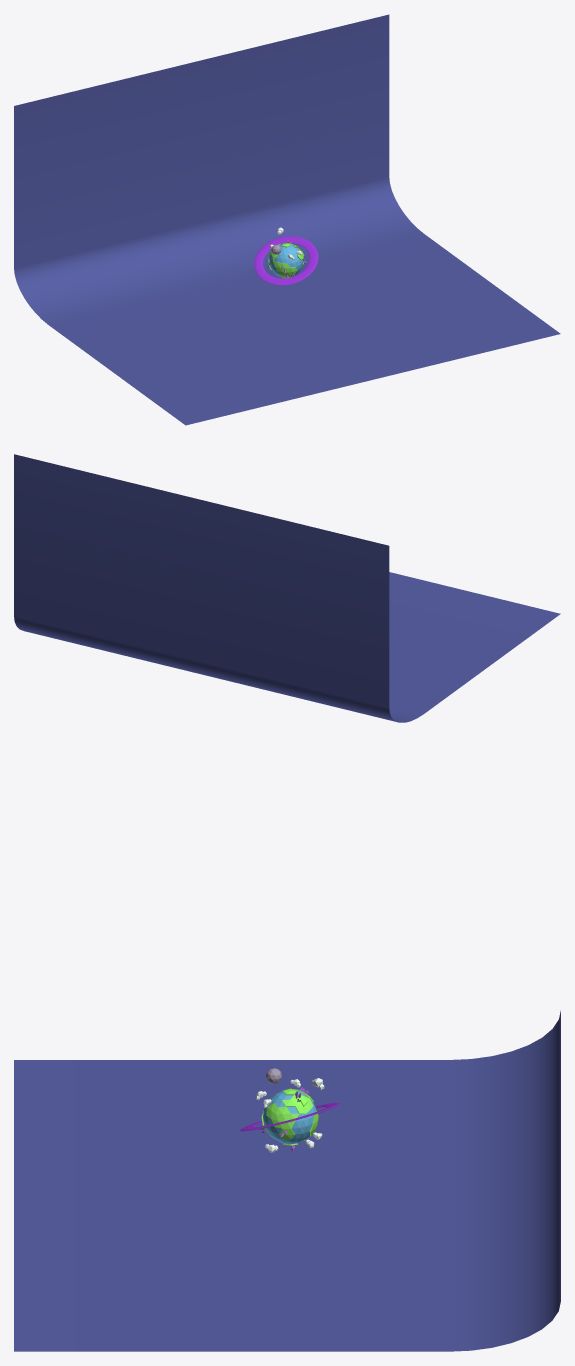
File: planetics.glb
3 renders of one model, top to bottom at view 1: azimuth 30°, elevation 25°; view 2: azimuth 150°, elevation 25°; view 3: azimuth 270°, elevation 25°, orthographic. The views are drawn at different scales.
Parts seen in each view (by area): view 1: Plane, world-ring, world-water; view 2: Plane; view 3: Plane, world terrain, world-water.
Part boxes in pixels (x1,y1,x2,y2): Plane: (14, 14, 560, 425); world-ring: (254, 236, 318, 285); world-water: (269, 244, 303, 276); Plane: (14, 454, 560, 722); Plane: (14, 1010, 560, 1351); world terrain: (261, 1088, 318, 1145); world-water: (263, 1090, 316, 1144).
Bounding box in the file's own units: 127 × 62.56 × 100.
